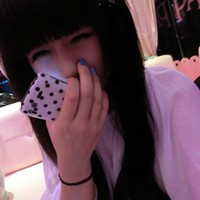face: (19, 8, 105, 117)
